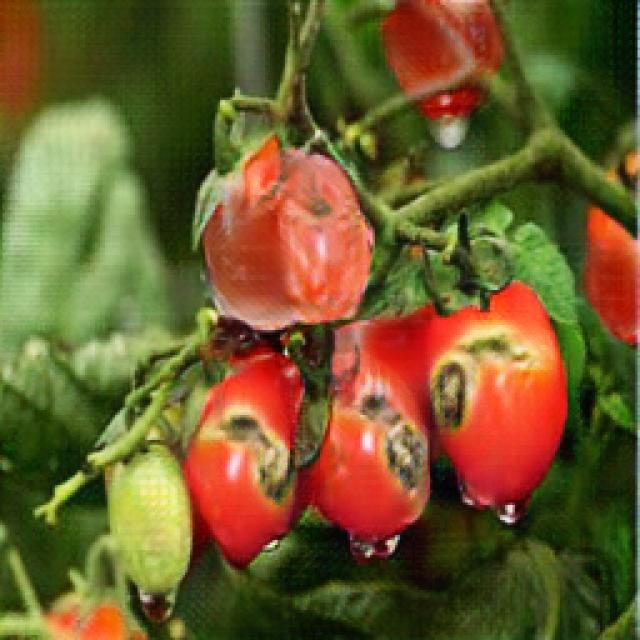overripe tomato: (191, 136, 373, 335), (431, 274, 569, 507), (186, 352, 319, 563), (304, 350, 433, 550)
